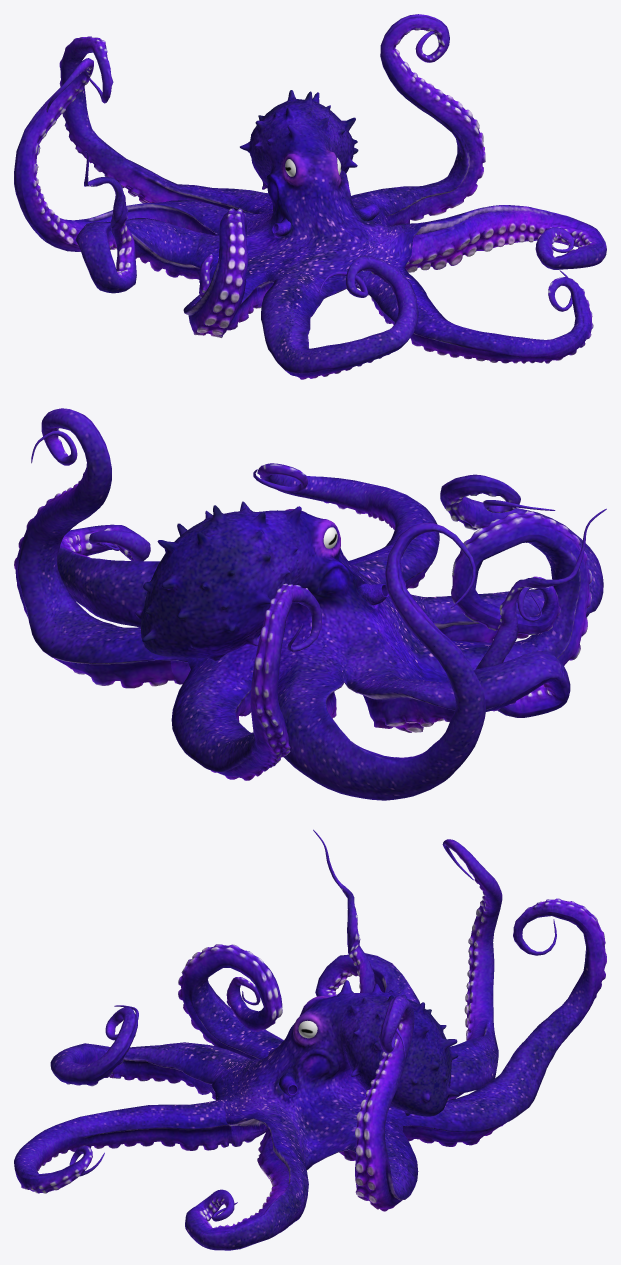
Rendered from octopus.glb.
3 renders of one model, top to bottom at view 1: azimuth 30°, elevation 25°; view 2: azimuth 150°, elevation 25°; view 3: azimuth 270°, elevation 25°, orthographic. The views are drawn at different scales.
Parts seen in each view (by area): view 1: node_id30; view 2: node_id30; view 3: node_id30.
Part boxes in pixels (x1,y1,x2,y2): node_id30: (14,14,606,379); node_id30: (14,408,606,800); node_id30: (14,829,606,1250).
Size of the model in its own units: 1.56 by 0.6673 by 1.66.
Materials: 1 (1 with a texture image).
